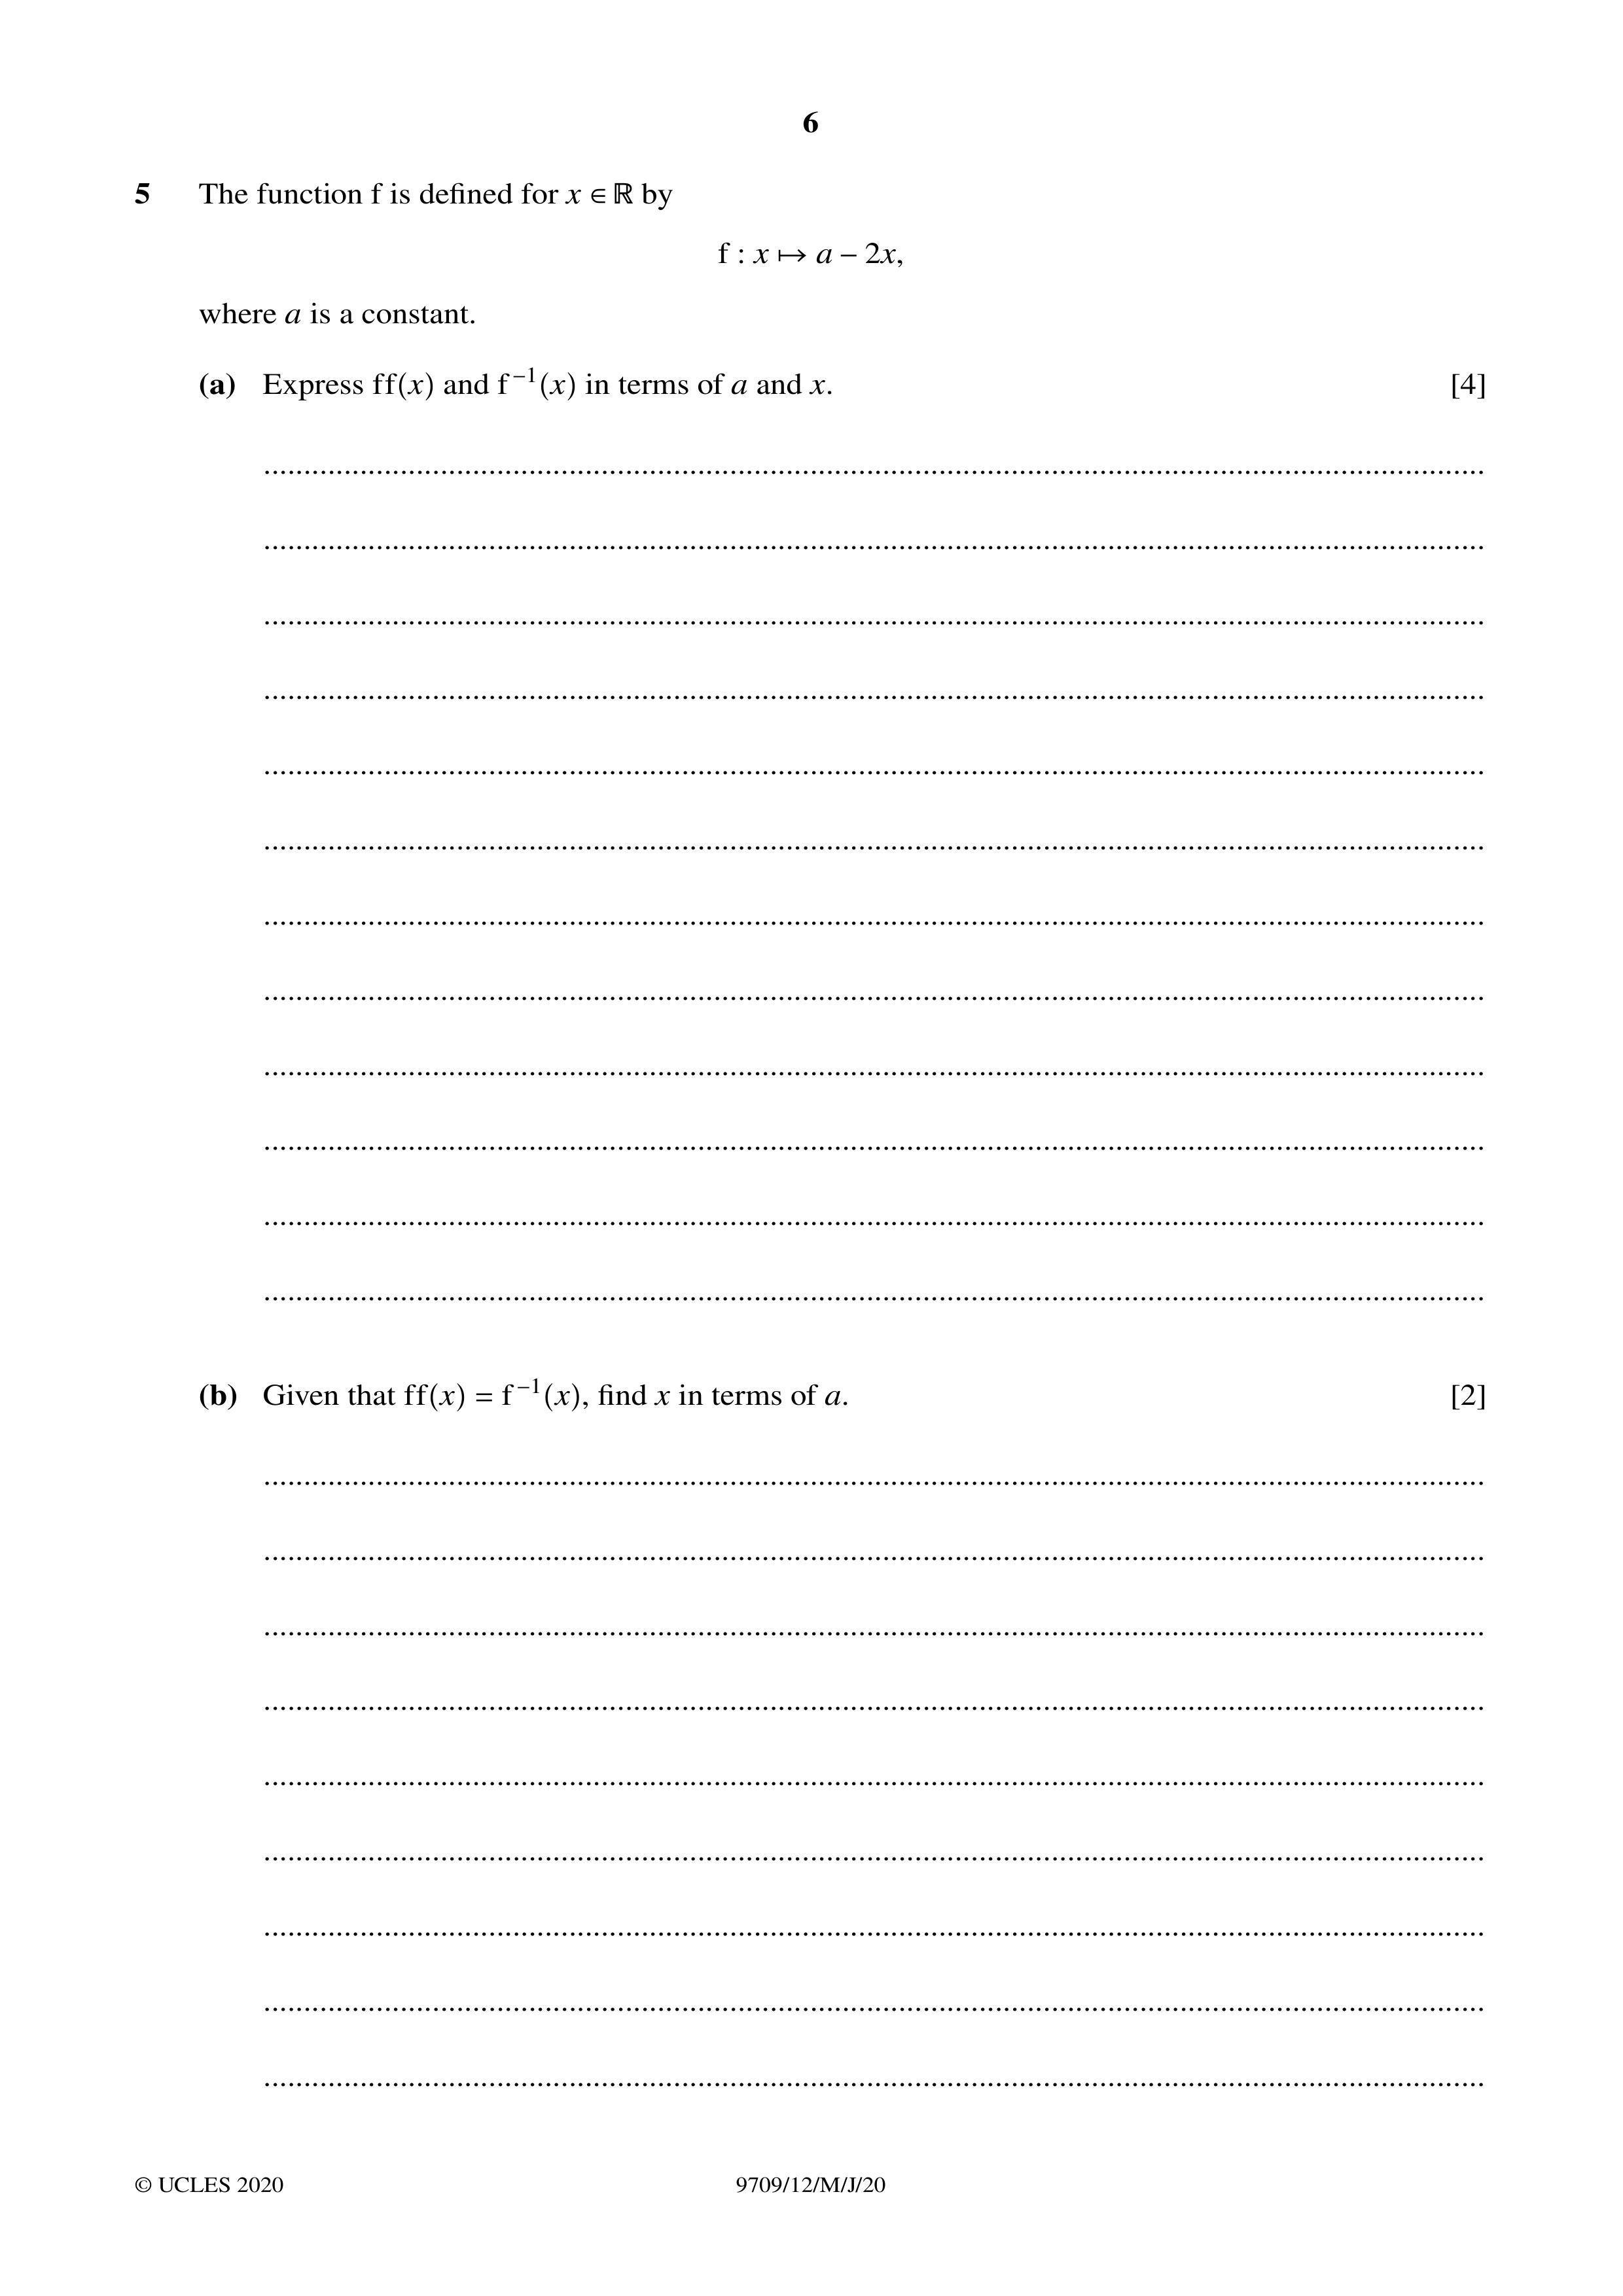question: (98, 153, 1509, 442), (142, 1324, 1511, 1446)
